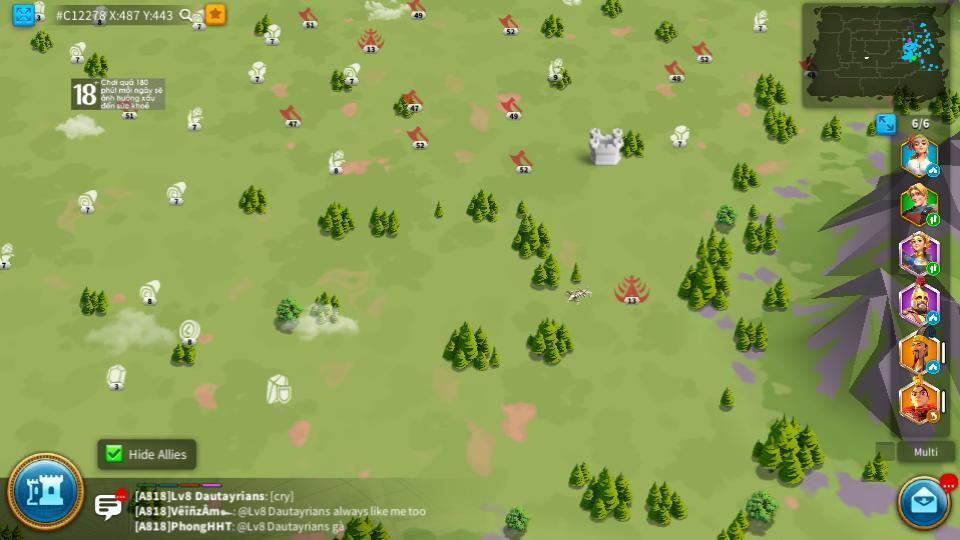gem-z-out: (103, 365, 127, 388)
march_idle: (926, 165, 942, 176), (926, 312, 940, 324), (927, 362, 940, 373)
march_marching: (926, 214, 942, 226), (925, 263, 938, 275)
march_returning: (926, 411, 940, 422)
